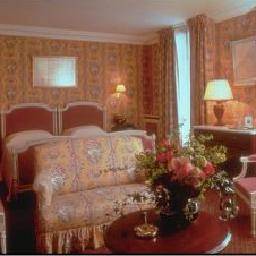Cama: (60, 96, 156, 141), (3, 101, 60, 141)
